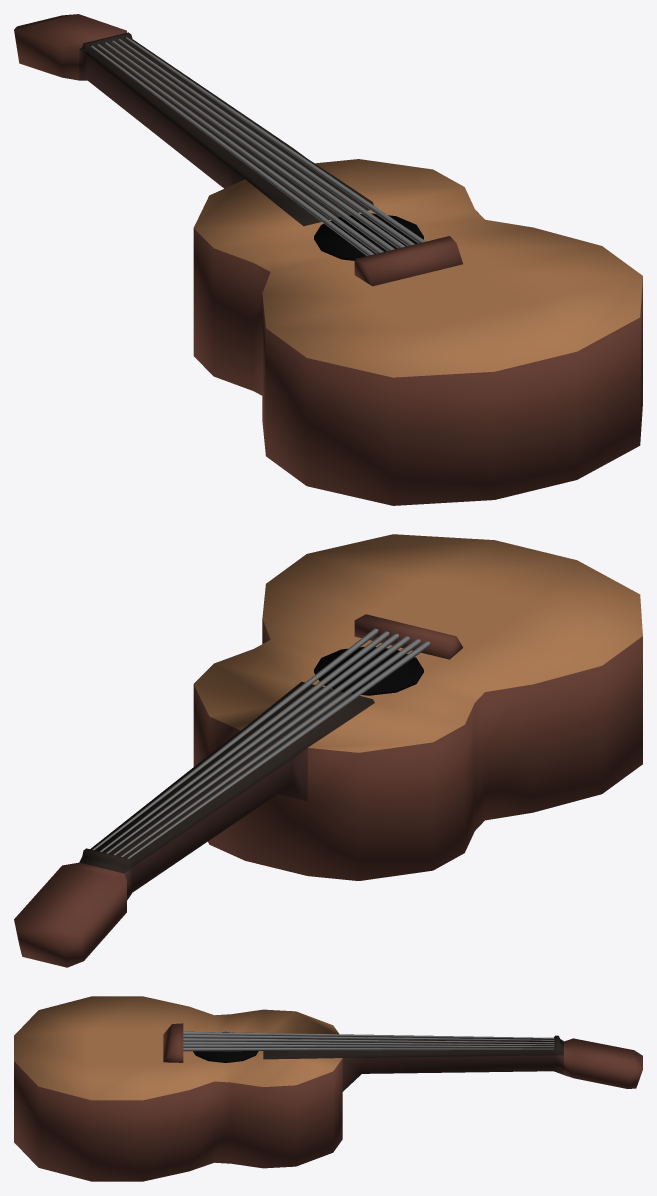
Rendered from PROP_Guitar.fbx.
3 views of the same model, one above another, from view 1: azimuth 30°, elevation 25°; view 2: azimuth 150°, elevation 25°; view 3: azimuth 270°, elevation 25° (orthographic). The views are drawn at different scales.
Parts seen in each view (by area): view 1: Guitar; view 2: Guitar; view 3: Guitar.
Part boxes in pixels (box(x1,y1,x2,y2)): Guitar: box(14, 14, 642, 505); Guitar: box(14, 534, 642, 967); Guitar: box(14, 996, 642, 1181).
Size of the model in its own units: 0.4924 by 0.2023 by 1.26.
